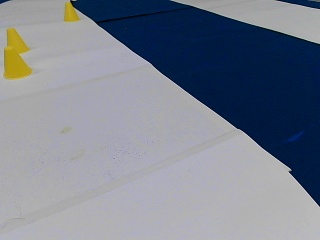cone: (2, 47, 31, 79), (6, 28, 29, 54), (64, 2, 78, 21)
